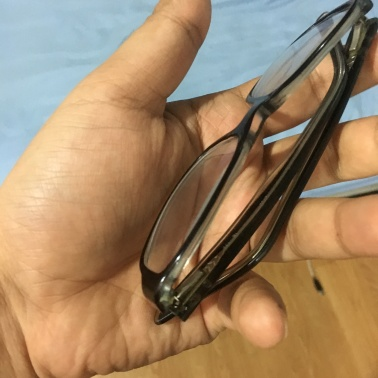glasses: (186, 6, 342, 301)
